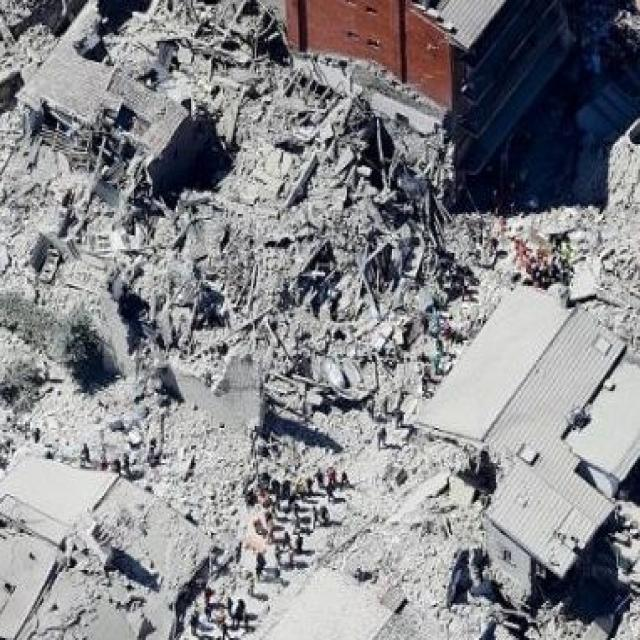collapsed_building: (35, 2, 431, 371), (428, 296, 638, 609), (5, 428, 251, 638)
